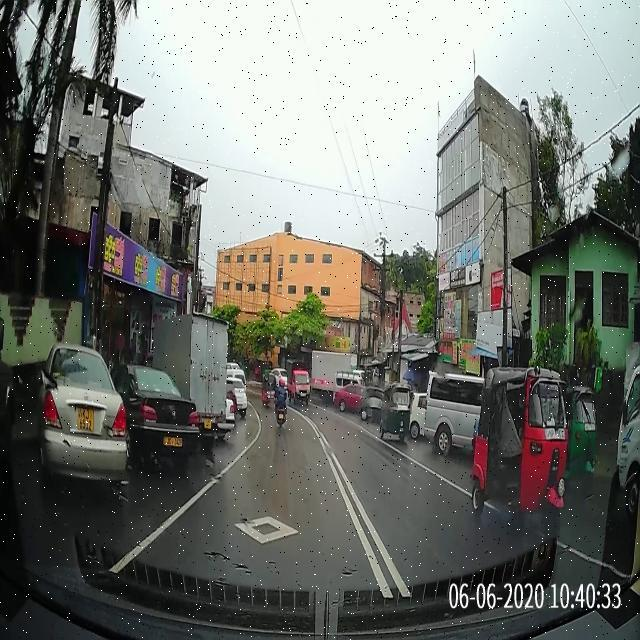diamond: (158, 505, 374, 557)
